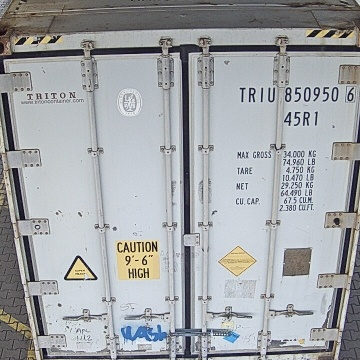serial_id: (240, 86, 356, 102)
